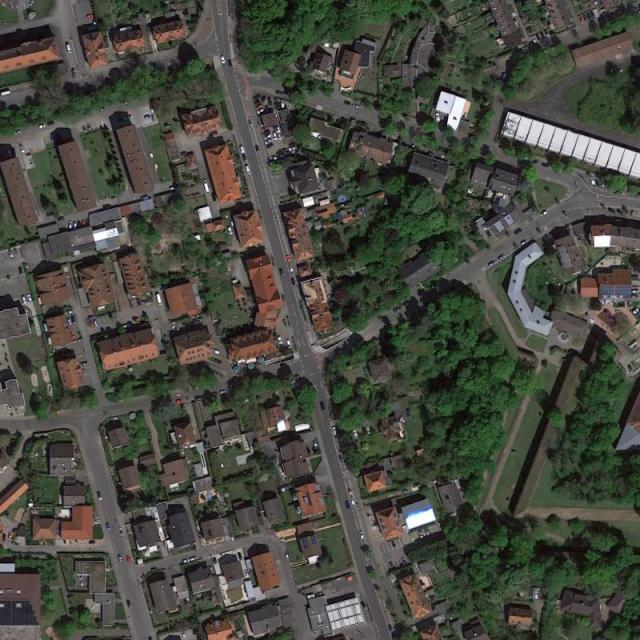vehicle: (202, 179, 210, 194), (156, 294, 163, 306), (615, 208, 624, 217), (211, 348, 221, 356), (264, 138, 274, 146), (539, 210, 549, 218), (126, 598, 133, 609), (358, 530, 365, 541), (26, 294, 34, 303), (253, 94, 262, 102), (97, 490, 103, 502), (489, 260, 498, 268), (582, 13, 590, 22), (393, 306, 402, 314), (70, 315, 77, 325), (244, 165, 251, 175), (86, 124, 93, 134), (286, 340, 293, 350), (590, 10, 597, 20), (586, 12, 593, 22), (578, 15, 585, 25), (424, 527, 431, 537), (607, 207, 617, 214), (66, 44, 72, 55), (332, 426, 338, 437), (266, 142, 274, 150), (514, 228, 522, 236), (254, 144, 261, 153), (239, 145, 246, 154), (267, 97, 274, 106), (257, 108, 266, 115), (539, 31, 546, 40), (389, 561, 396, 570), (401, 558, 408, 567), (418, 530, 425, 539), (18, 266, 24, 276), (352, 104, 362, 110), (211, 192, 217, 202), (237, 552, 243, 562), (66, 318, 73, 326), (214, 358, 222, 365), (265, 134, 273, 141), (290, 278, 297, 286), (14, 129, 22, 136), (594, 180, 601, 188), (391, 541, 398, 549), (8, 532, 14, 541), (22, 296, 28, 305), (93, 319, 99, 328), (124, 115, 133, 121), (220, 56, 226, 65), (82, 126, 88, 135), (248, 119, 254, 128), (171, 326, 180, 332), (228, 227, 234, 236), (275, 90, 284, 96), (255, 104, 264, 110), (320, 401, 326, 410), (19, 145, 25, 154), (435, 114, 441, 123), (541, 162, 550, 168), (9, 249, 14, 259), (68, 221, 73, 231), (106, 522, 111, 532), (499, 254, 506, 261), (242, 154, 248, 162), (136, 298, 142, 306), (254, 100, 262, 106), (288, 266, 294, 274), (279, 269, 285, 277), (38, 124, 46, 130), (535, 34, 541, 42), (521, 240, 529, 246), (544, 30, 550, 38), (531, 36, 537, 44), (590, 178, 596, 186), (628, 365, 634, 373), (633, 307, 639, 315), (65, 310, 74, 315), (230, 218, 235, 227), (277, 153, 286, 158), (286, 255, 291, 264), (50, 136, 55, 145), (118, 555, 123, 564), (119, 528, 124, 537), (126, 555, 131, 564), (285, 550, 290, 559), (345, 501, 350, 510), (350, 497, 355, 506), (366, 426, 371, 435), (403, 302, 412, 307), (79, 362, 89, 366), (14, 248, 19, 256), (87, 315, 95, 320), (89, 320, 94, 328), (228, 59, 233, 67), (343, 101, 351, 106), (122, 324, 130, 329), (98, 107, 106, 112), (86, 218, 90, 228), (82, 220, 86, 230), (73, 222, 78, 230), (273, 133, 278, 141), (278, 337, 283, 345), (270, 156, 278, 161), (219, 390, 229, 394), (176, 399, 184, 404), (8, 150, 13, 158), (182, 559, 190, 564), (190, 557, 198, 562), (209, 566, 214, 574), (388, 624, 393, 632), (353, 430, 358, 438), (72, 69, 76, 78), (78, 221, 82, 230), (144, 115, 151, 120), (47, 121, 54, 126), (338, 455, 343, 462), (348, 488, 353, 495), (2, 534, 6, 542), (86, 14, 94, 18), (230, 534, 234, 542), (214, 557, 218, 565), (246, 570, 250, 578), (278, 134, 282, 141), (182, 631, 186, 638), (632, 295, 639, 299), (632, 290, 639, 294), (149, 636, 153, 640)
